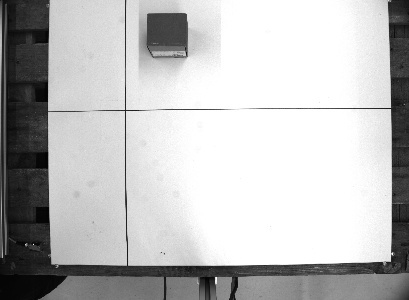b7: (144, 10, 190, 59)
